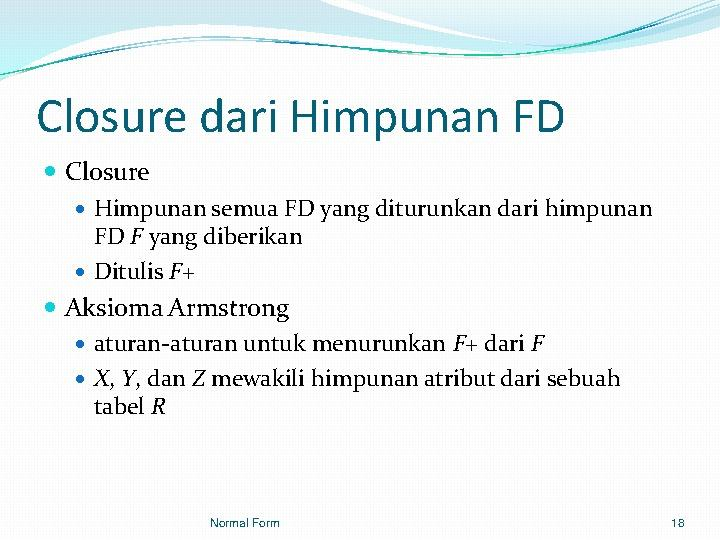paragraph: (36, 155, 681, 460)
subtitle: (62, 291, 298, 328), (62, 156, 159, 187)
title: (36, 74, 580, 150)
